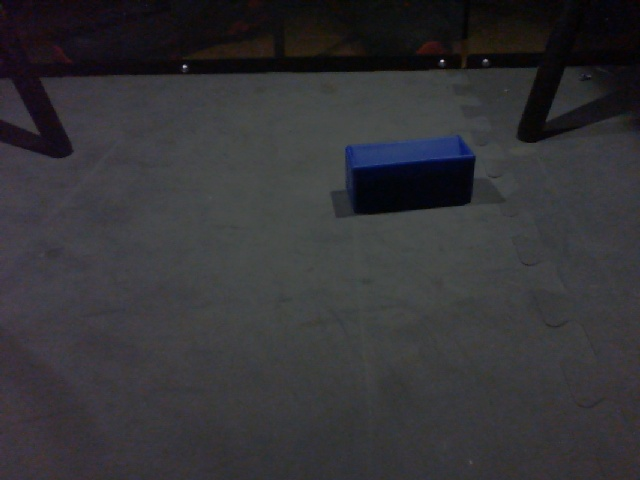BlueSample: (337, 135, 480, 215)
